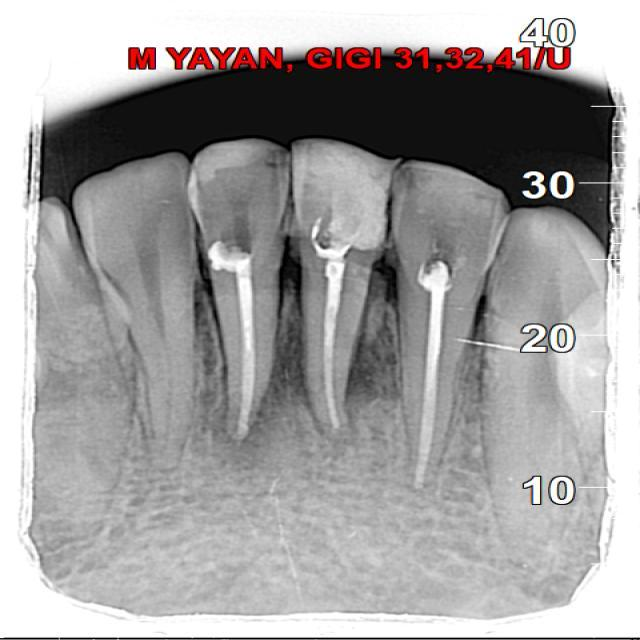individual-tooth-8tto: (376, 164, 508, 489), (178, 130, 301, 438), (282, 132, 403, 442)
